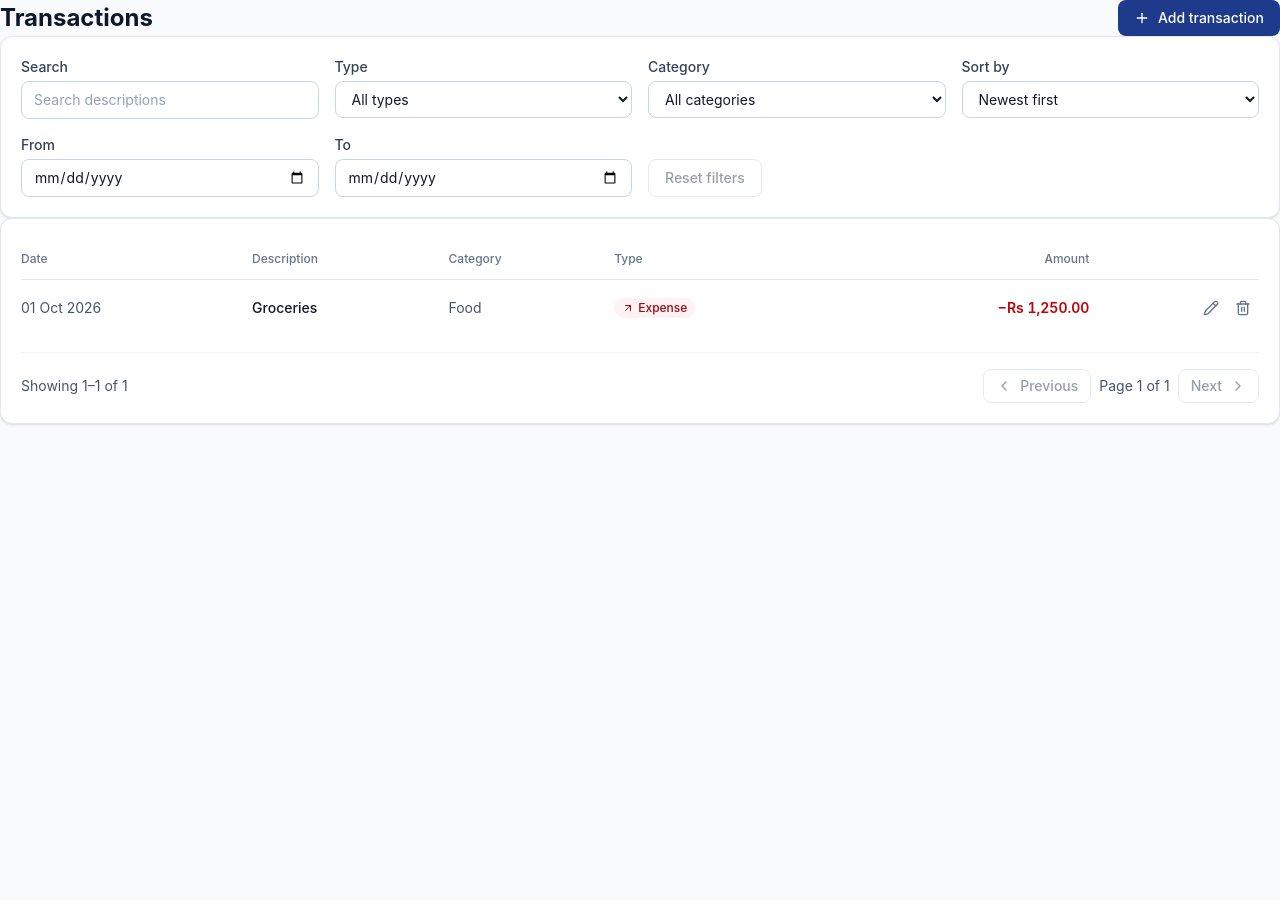
Test: editing and deleting › asks for confirmation before deleting, and cancel keeps the data
Click the button named "Delete Groceries" at (1243, 308), box [1227,292,1259,324]
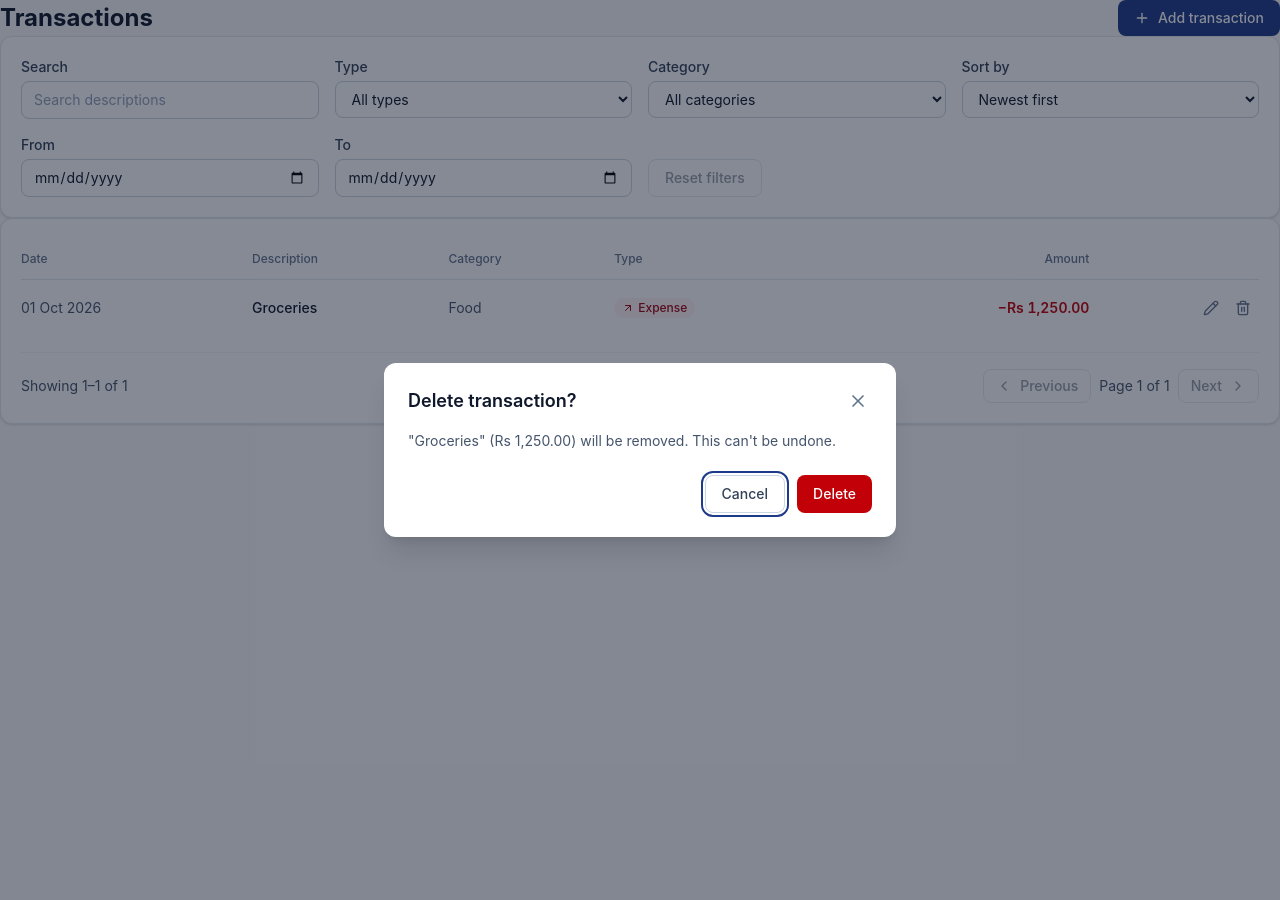
Click the button "Cancel" at (745, 494), box [705,475,785,513]
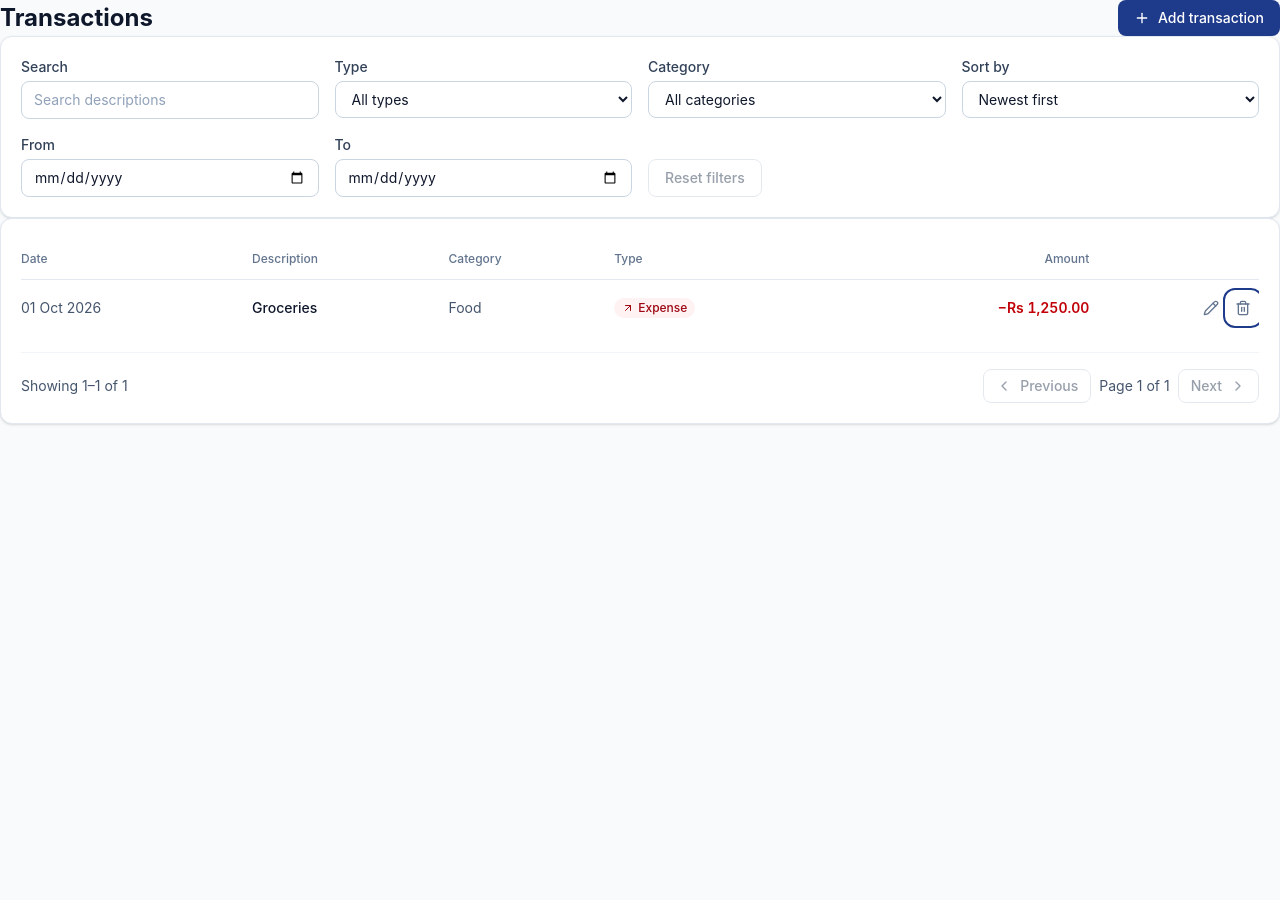
Expected: the text "Groceries" is shown, [252,280,449,336]
Click the button named "Delete Groceries" at (1243, 308), box [1227,292,1259,324]
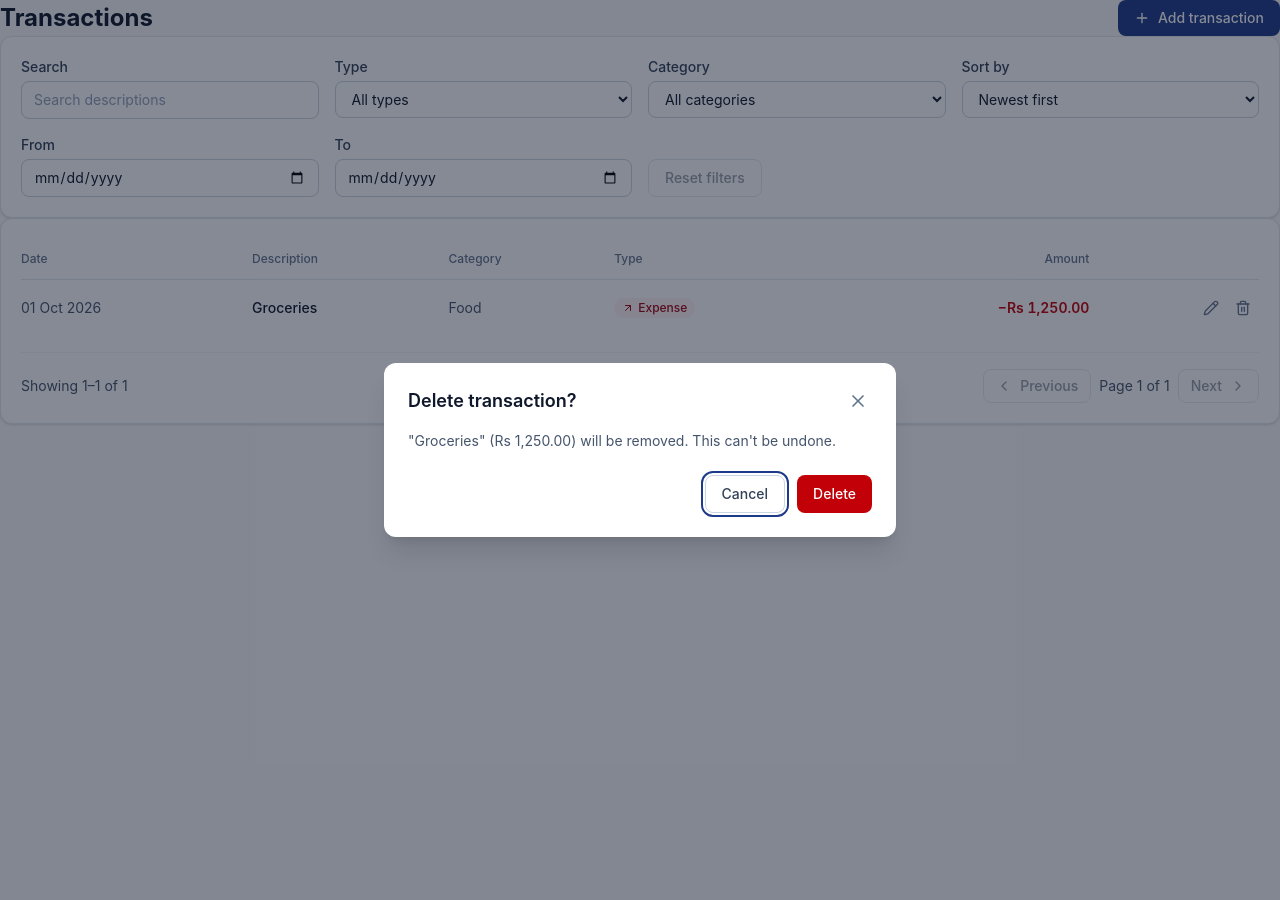
Click the button "Delete" at (835, 494), box [797,475,872,513]
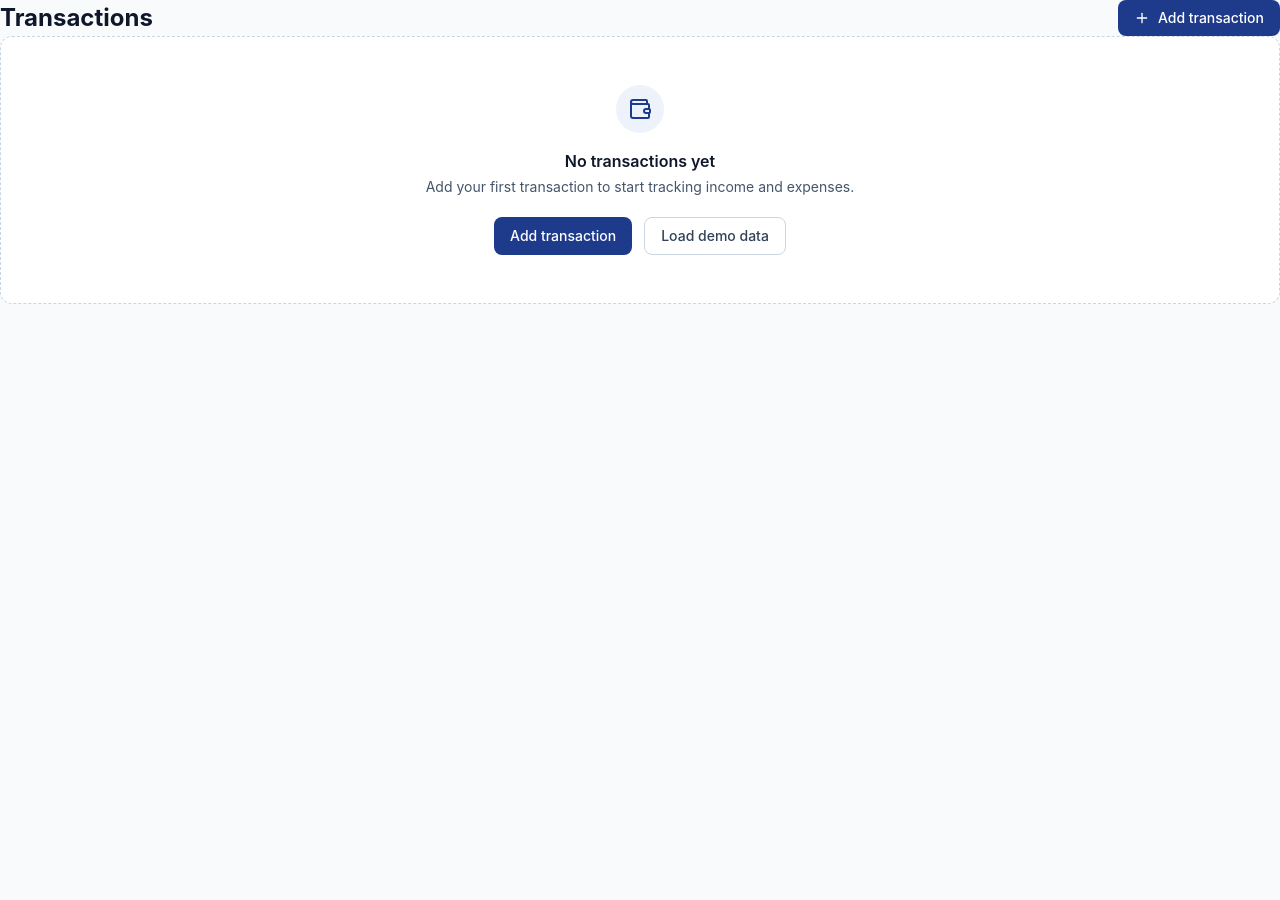
Expected: the heading "No transactions yet" is shown, [565,149,715,173]
